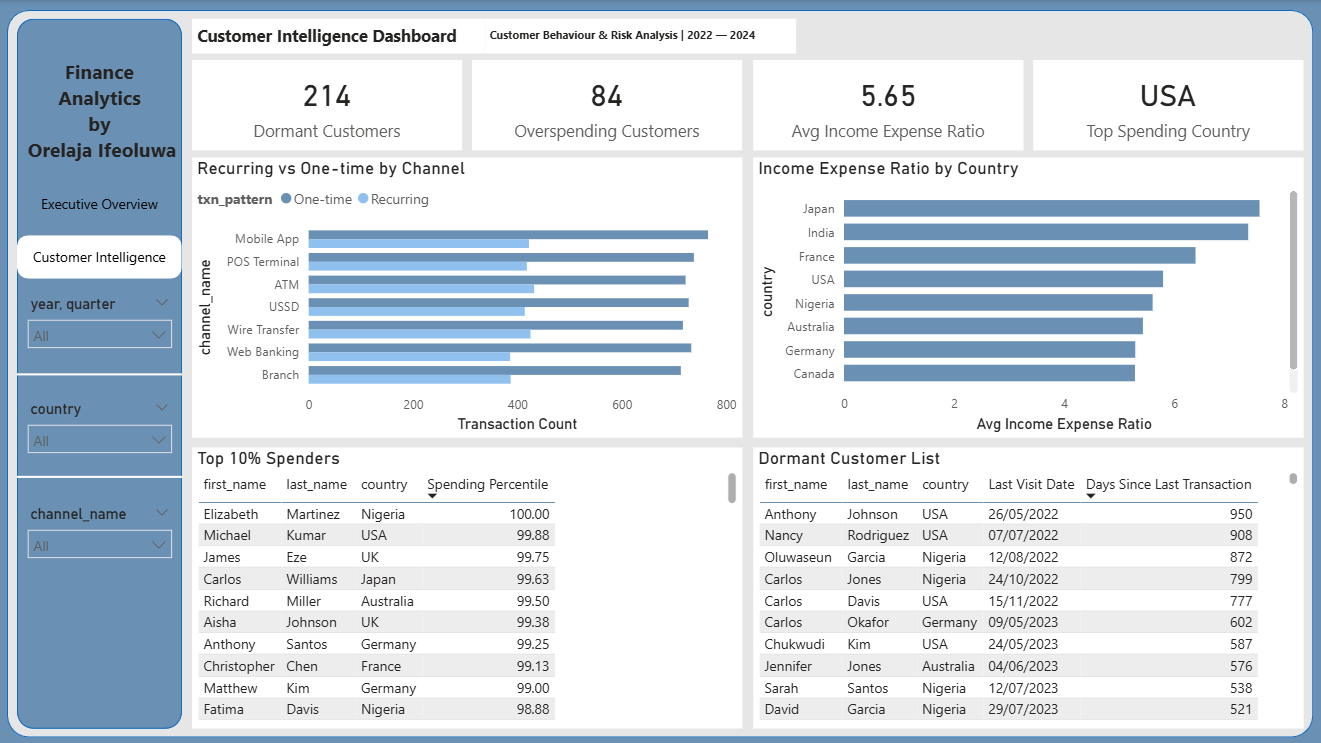

The page's visual inventory and layout, read from the dashboard file:
{"tool":"powerbi","page":{"name":"Customer Intelligence","canvas":[1280,720],"ordinal":1},"visuals":[{"type":"shape","box":[9.1,9.1,1260.7,702.1],"z":0},{"type":"shape","box":[19.3,18.1,159.3,685.3],"z":1000},{"type":"slicer","title":"Date","fields":{"Values":["finance dim_date.year","finance dim_date.quarter"]},"box":[19.3,279.9,159.3,101.3],"z":2000},{"type":"slicer","title":"Date","fields":{"Values":["finance dim_customer.country"]},"box":[19.3,381.2,159.3,101.3],"z":3000},{"type":"slicer","title":"Date","fields":{"Values":["finance dim_channel.channel_name"]},"box":[19.3,482.6,159.3,101.3],"z":4000},{"type":"textbox","box":[188.2,18.1,282.3,33.8],"z":5000},{"type":"textbox","box":[19.3,51.9,159.3,172.5],"z":6000},{"type":"shape","box":[19.3,211.1,159.3,300.4],"z":7000},{"type":"shape","box":[19.3,310.1,159.3,300.4],"z":8000},{"type":"card","title":"Total Transactions ","fields":{"Values":["finance fact_transactions.Dormant Customers"]},"box":[188.2,57.9,260.6,86.9],"z":9000},{"type":"card","title":"Total Expense KPI","fields":{"Values":["finance fact_transactions.Top Spending Country"]},"box":[1000.1,57.9,260.6,86.9],"z":10000},{"type":"card","title":"Avg Transaction Size","fields":{"Values":["finance fact_transactions.Avg Income Expense Ratio"]},"box":[729.9,57.9,260.6,86.9],"z":11000},{"type":"card","title":"Net Cash Flow","fields":{"Values":["finance fact_transactions.Overspending Customers"]},"box":[458.4,57.9,260.6,86.9],"z":12000},{"type":"textbox","box":[470.5,18.1,300.4,33.8],"z":13000},{"type":"pageNavigator","box":[19.3,174.9,159.3,94.1],"z":14000},{"type":"clusteredBarChart","title":"Income Expense Ratio by Country","fields":{"Category":["finance dim_customer.country"],"Y":["finance fact_transactions.Avg Income Expense Ratio"]},"box":[729.9,152,530.8,270.2],"z":15000},{"type":"tableEx","title":"Top 10% Spenders","fields":{"Values":["finance dim_customer.first_name","finance dim_customer.last_name","finance dim_customer.country","finance dim_customer.Spending Percentile"]},"box":[188.2,431.9,530.8,271.4],"z":16000},{"type":"tableEx","title":"Dormant Customer List","fields":{"Values":["finance dim_customer.first_name","finance dim_customer.last_name","finance dim_customer.country","finance dim_customer.Days Since Last Transaction"]},"box":[729.9,431.9,530.8,271.4],"z":17000},{"type":"clusteredBarChart","title":"Recurring vs One-time by Channel","fields":{"Category":["finance dim_channel.channel_name"],"Y":["CountNonNull(finance fact_transactions.transaction_key)"],"Series":["finance fact_transactions.txn_pattern"]},"box":[188.2,152,530.8,270.2],"z":18000}]}

Visuals, with their boxes in screenshot pixels (x1, y1, x2, y2), scaled from the page's 1280x720 canvas onto the 1321x743 screenshot:
shape: box=[9, 9, 1310, 734]
shape: box=[20, 19, 184, 726]
"Date" slicer: box=[20, 289, 184, 393]
"Date" slicer: box=[20, 393, 184, 498]
"Date" slicer: box=[20, 498, 184, 603]
textbox: box=[194, 19, 486, 54]
textbox: box=[20, 54, 184, 232]
shape: box=[20, 218, 184, 528]
shape: box=[20, 320, 184, 630]
"Total Transactions " card: box=[194, 60, 463, 149]
"Total Expense KPI" card: box=[1032, 60, 1301, 149]
"Avg Transaction Size" card: box=[753, 60, 1022, 149]
"Net Cash Flow" card: box=[473, 60, 742, 149]
textbox: box=[486, 19, 796, 54]
pageNavigator: box=[20, 180, 184, 278]
"Income Expense Ratio by Country" clusteredBarChart: box=[753, 157, 1301, 436]
"Top 10% Spenders" tableEx: box=[194, 446, 742, 726]
"Dormant Customer List" tableEx: box=[753, 446, 1301, 726]
"Recurring vs One-time by Channel" clusteredBarChart: box=[194, 157, 742, 436]
